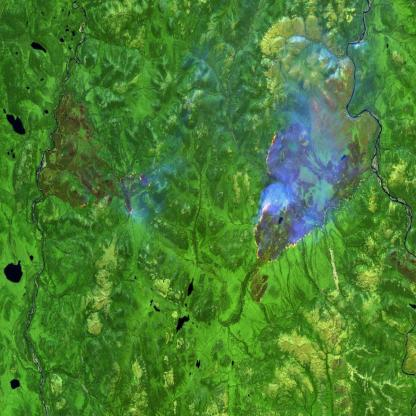fire: (248, 122, 380, 276), (112, 162, 160, 220)
